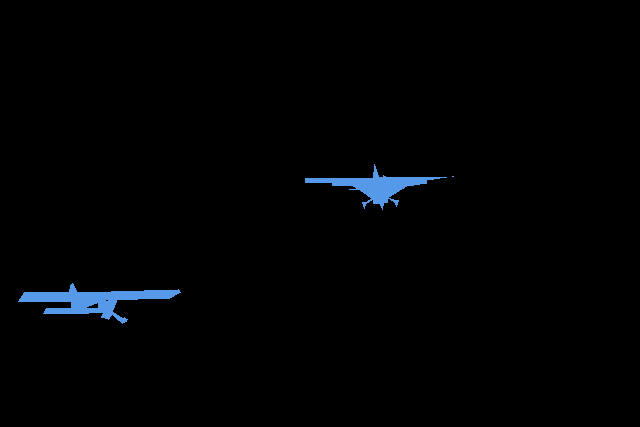Airplane: (305, 164, 453, 209), (18, 283, 180, 314), (98, 299, 127, 323)
